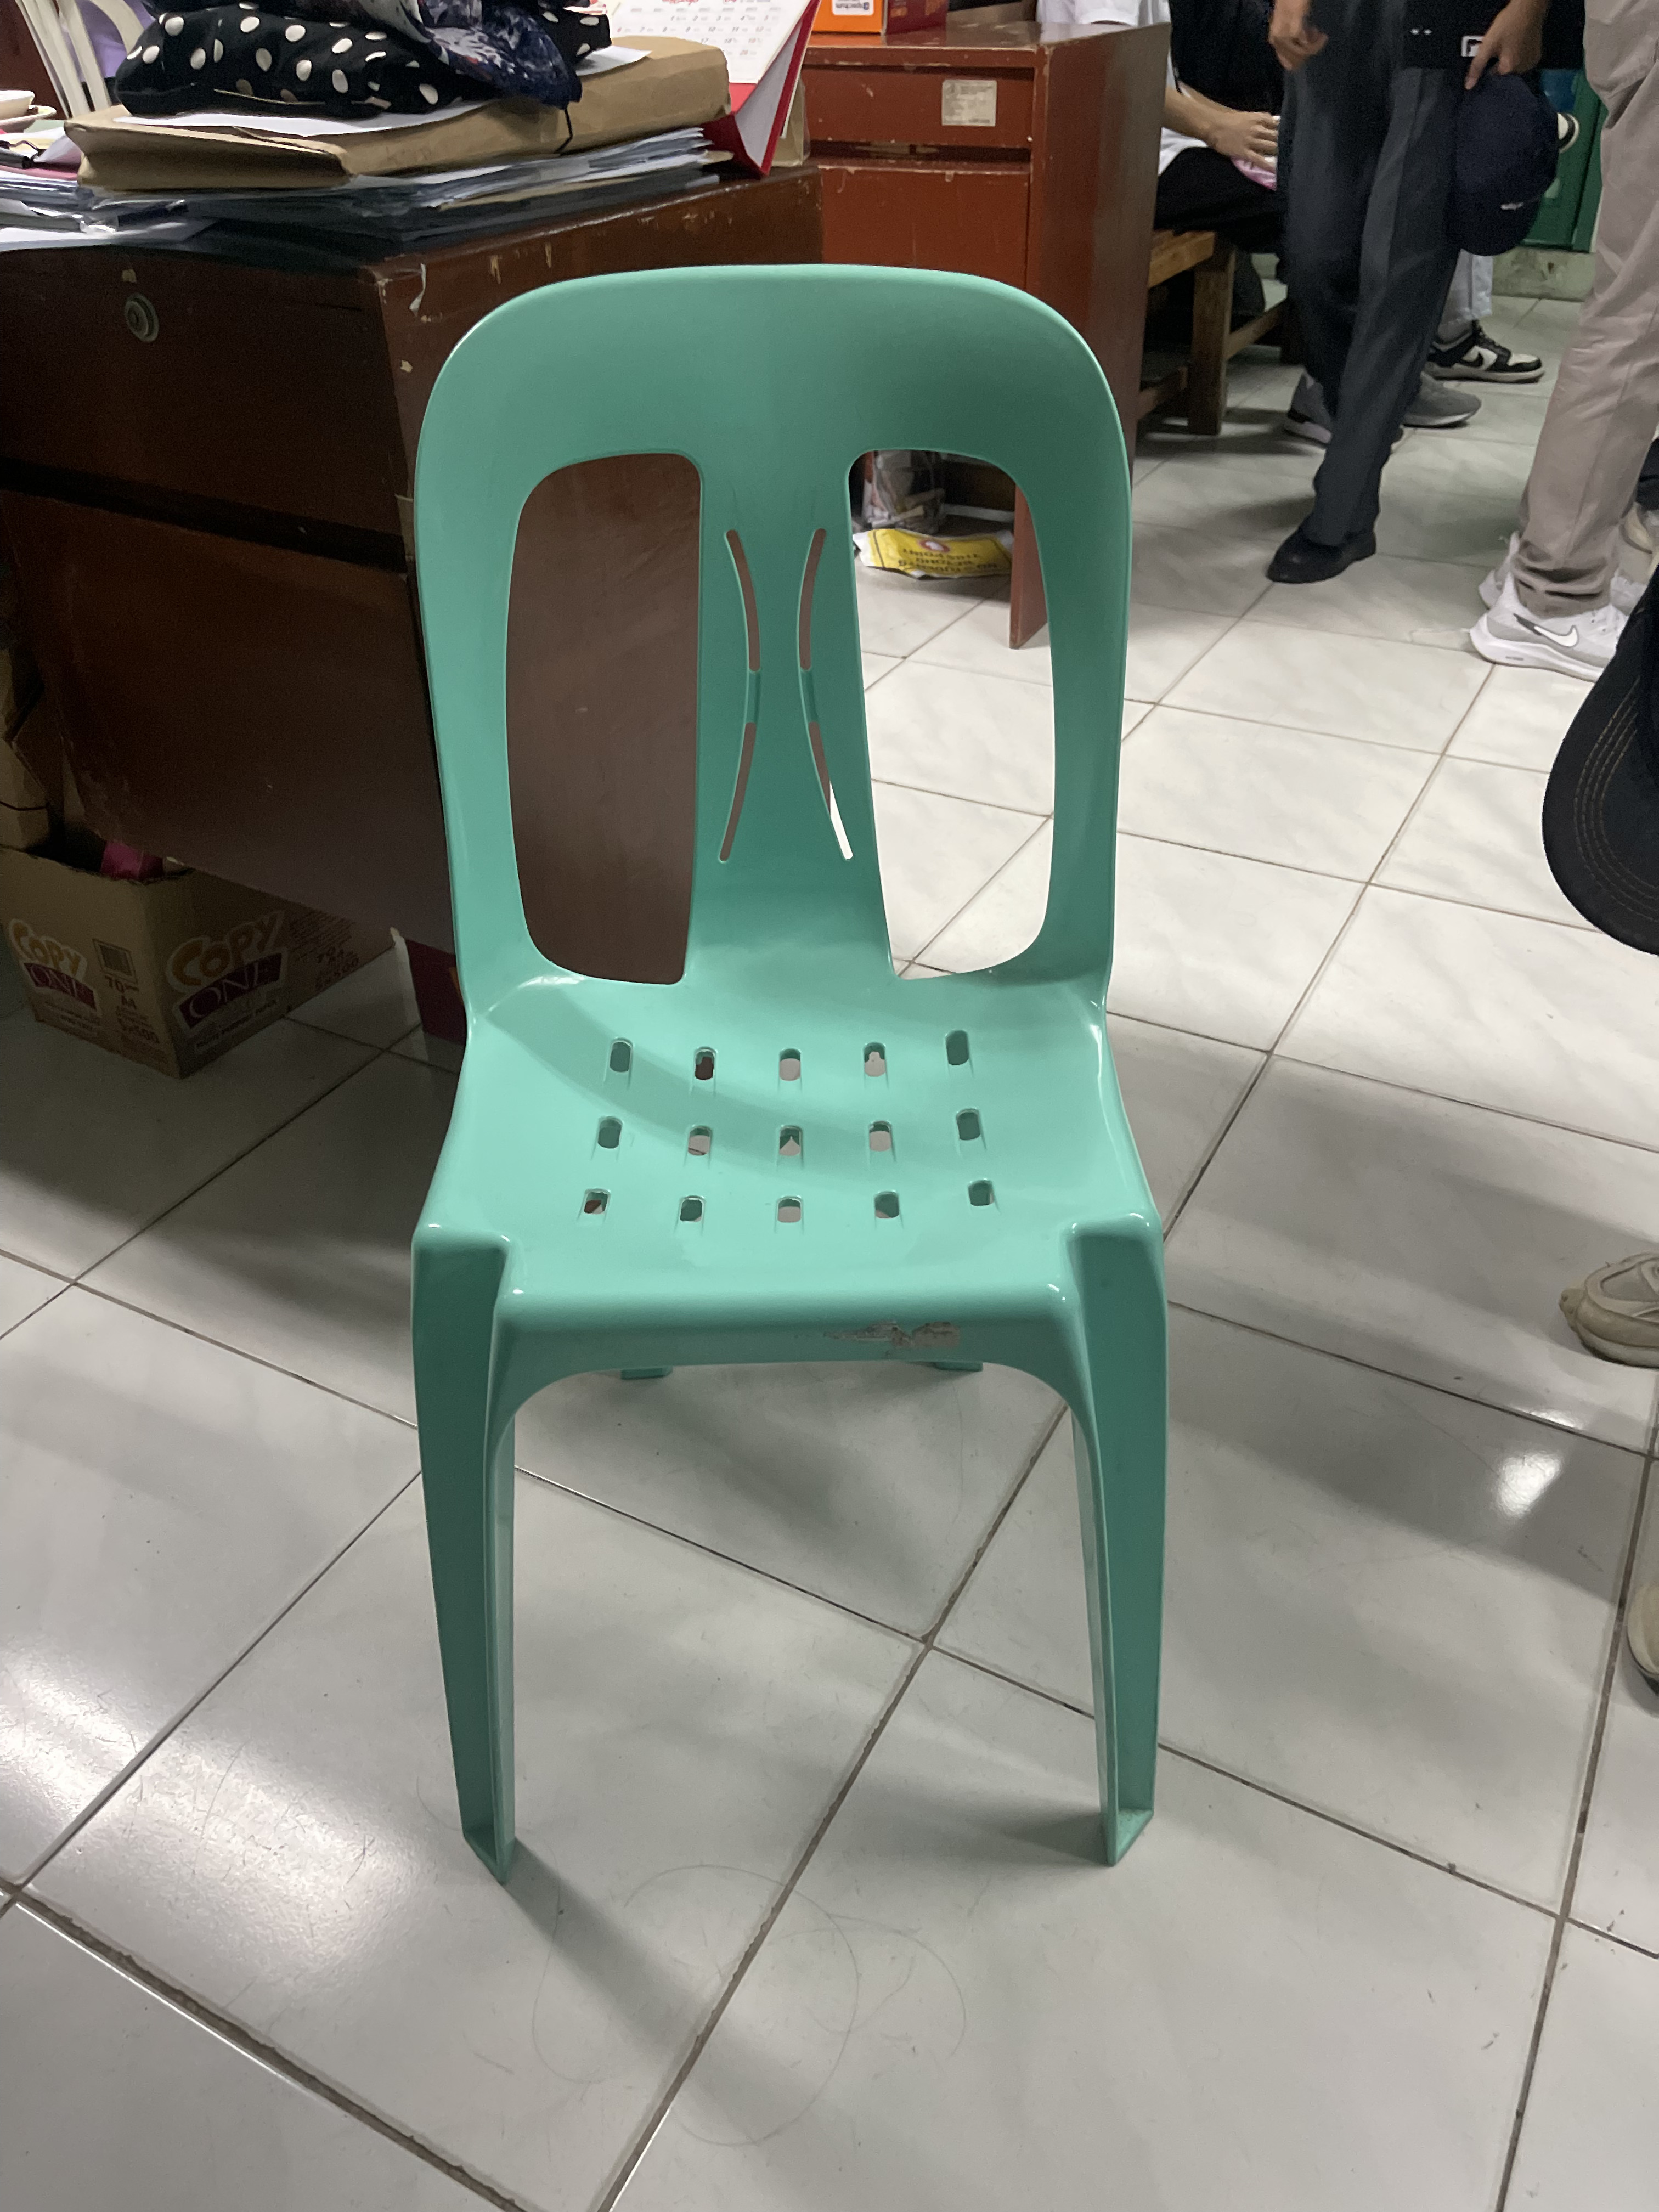chair2: (404, 265, 1173, 1879)
